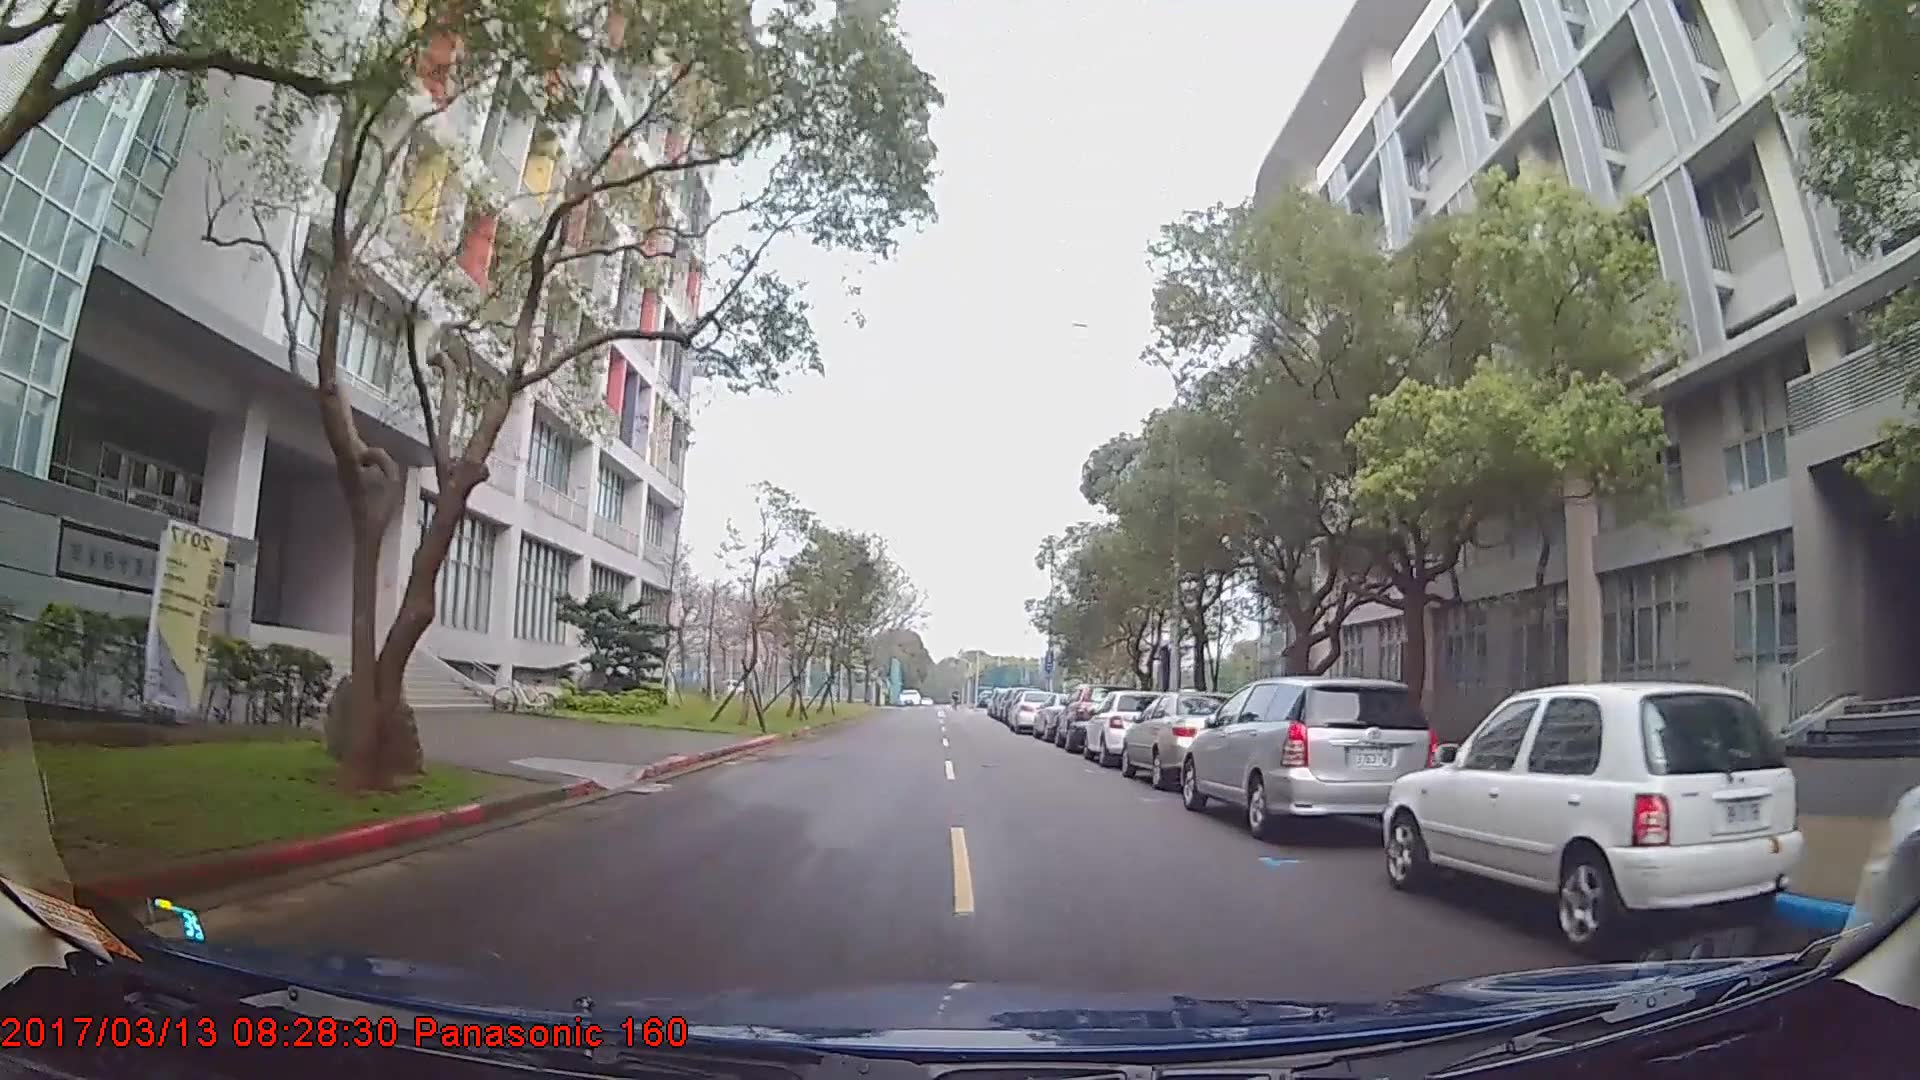vehicle: (1379, 680, 1804, 951), (1179, 676, 1443, 837), (1120, 688, 1259, 787), (1081, 687, 1167, 765), (1004, 686, 1060, 735)
